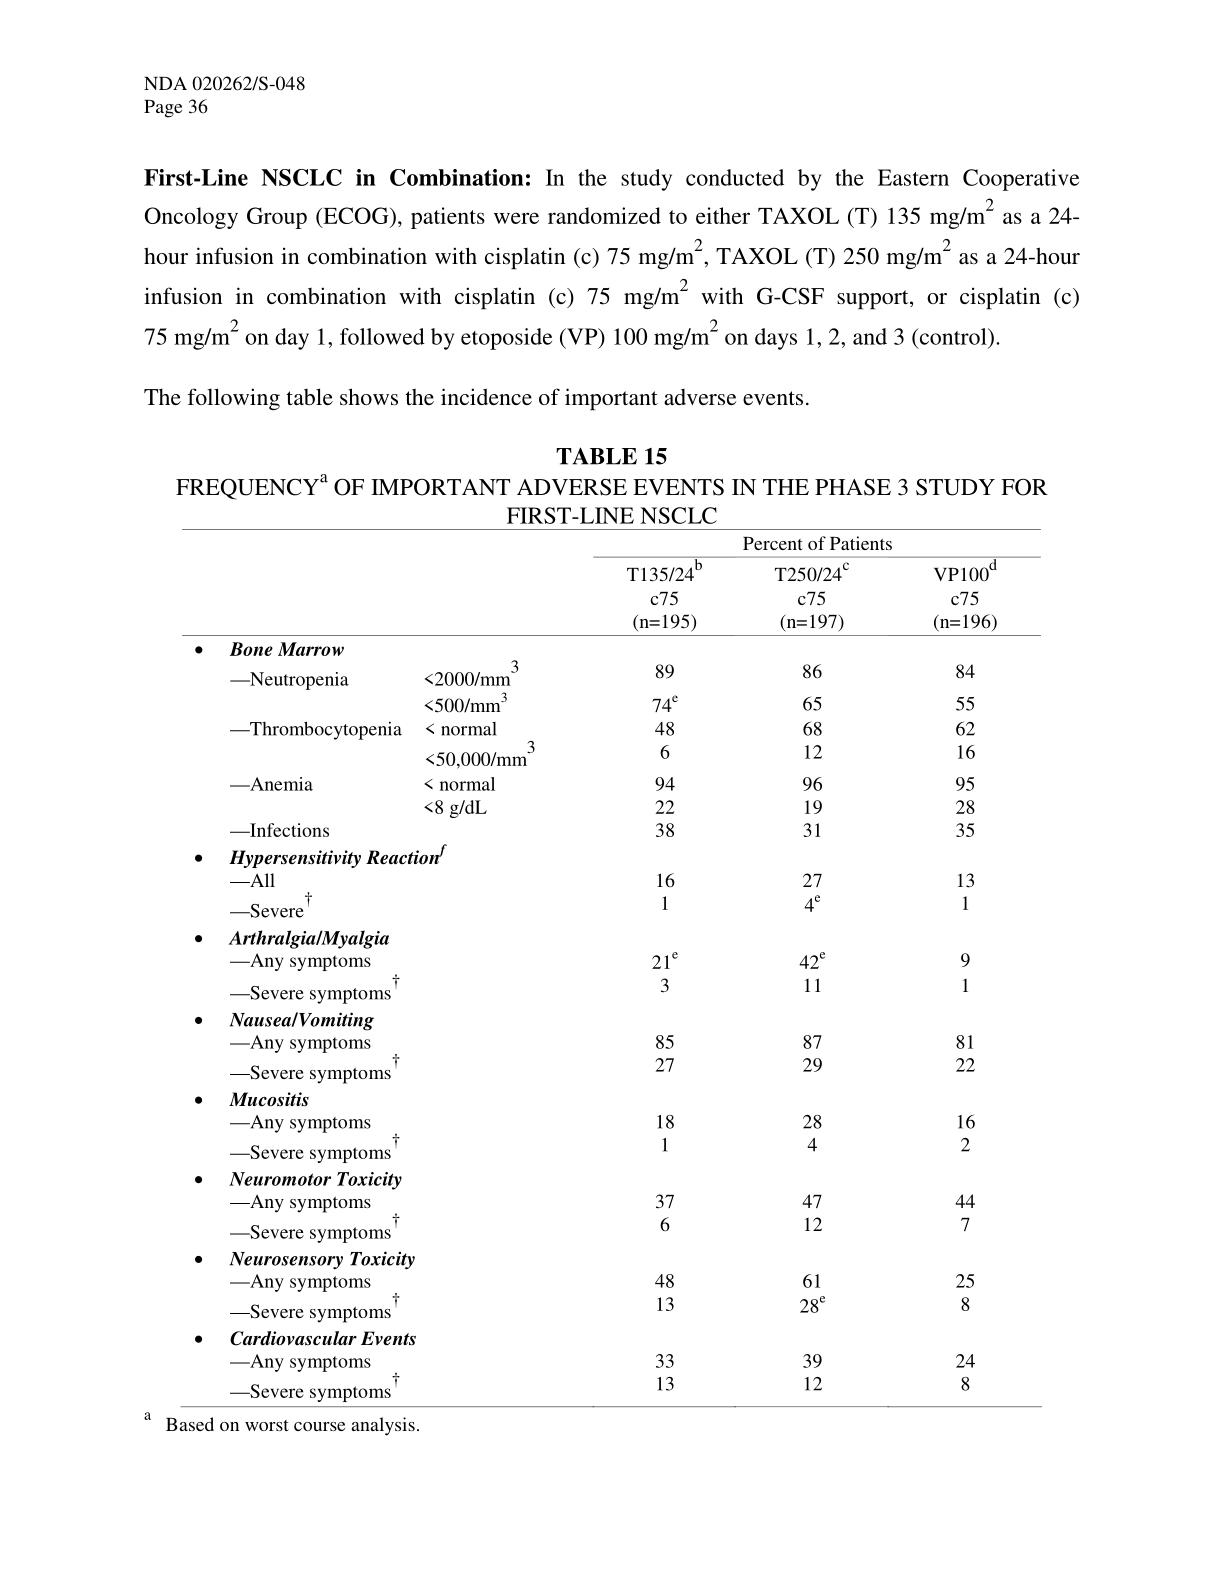partial_lined_merged_cells: (181, 527, 1041, 1409)
